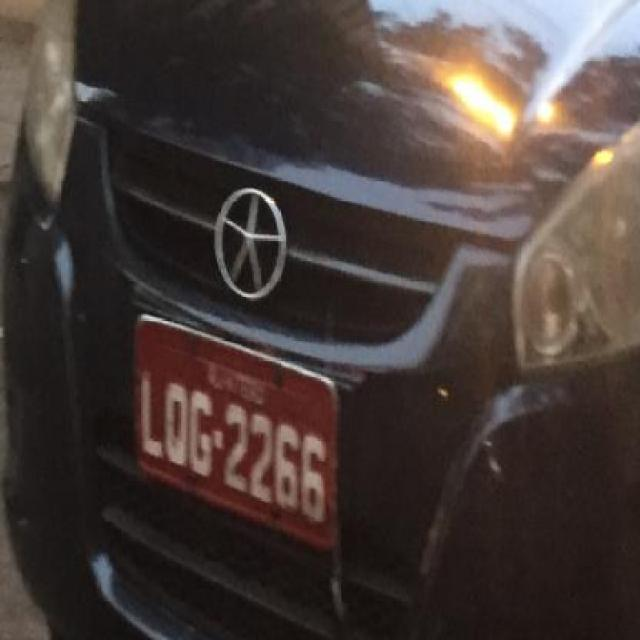old_plate: (117, 310, 346, 554)
